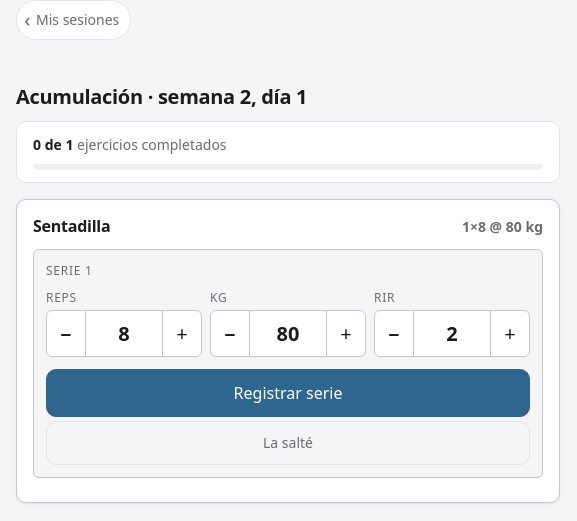
empujar el número en vez de escribirlo › la carga se mueve de a 2,5 kg, que es el disco más chico
Click the button named "Subir Kg".
click(346, 333)  # box [326, 310, 366, 357]
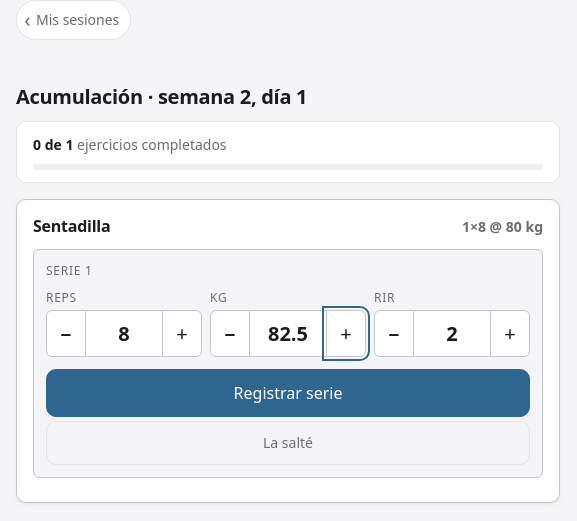
Expected: the field named "Kg" holds "82.5", [250, 310, 326, 357]
